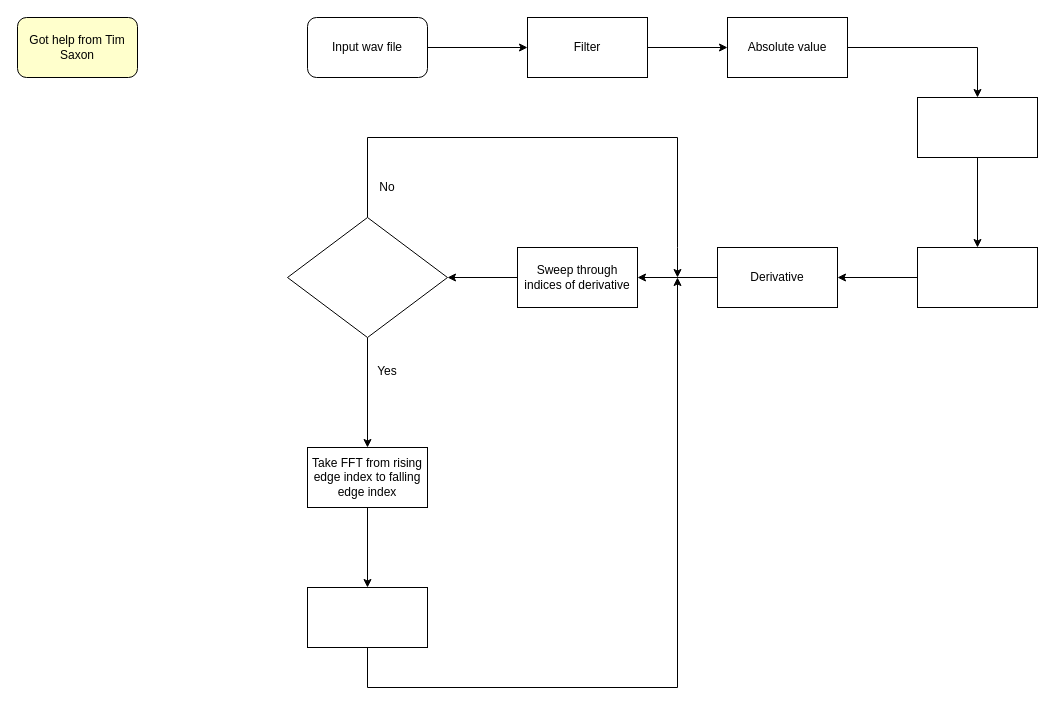
Some shapes in this 1055 by 713 pixel diagram are drawn without their labels. The shapes that lost their labels are listed below. From the top down, each one's centre as x and y in pixels, then its label:
At point 977,127: "Average".
At point 367,277: "detected rising edge followed by falling edge?".
At point 977,277: "Clean DC".
At point 367,617: "Calculate and display number associated with the DTMF tone".
